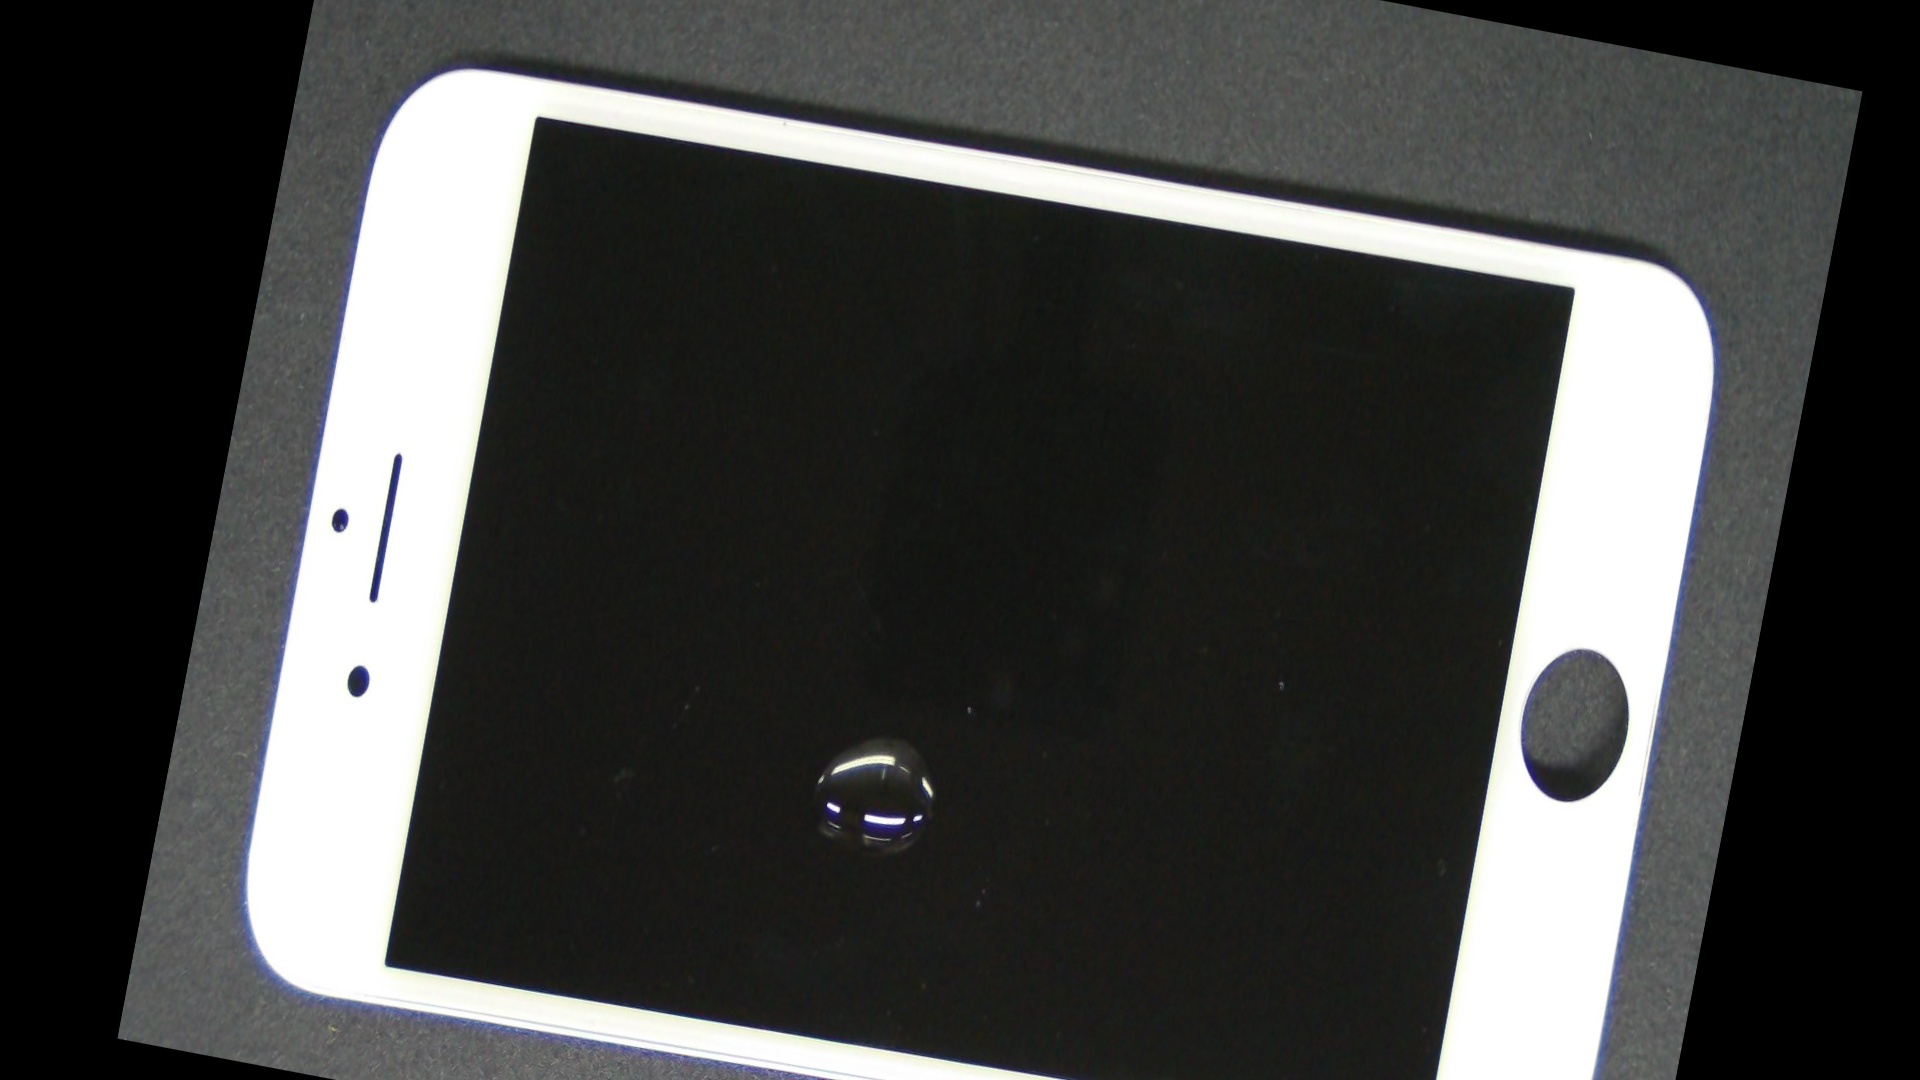oil: (468, 270, 1309, 1080)
